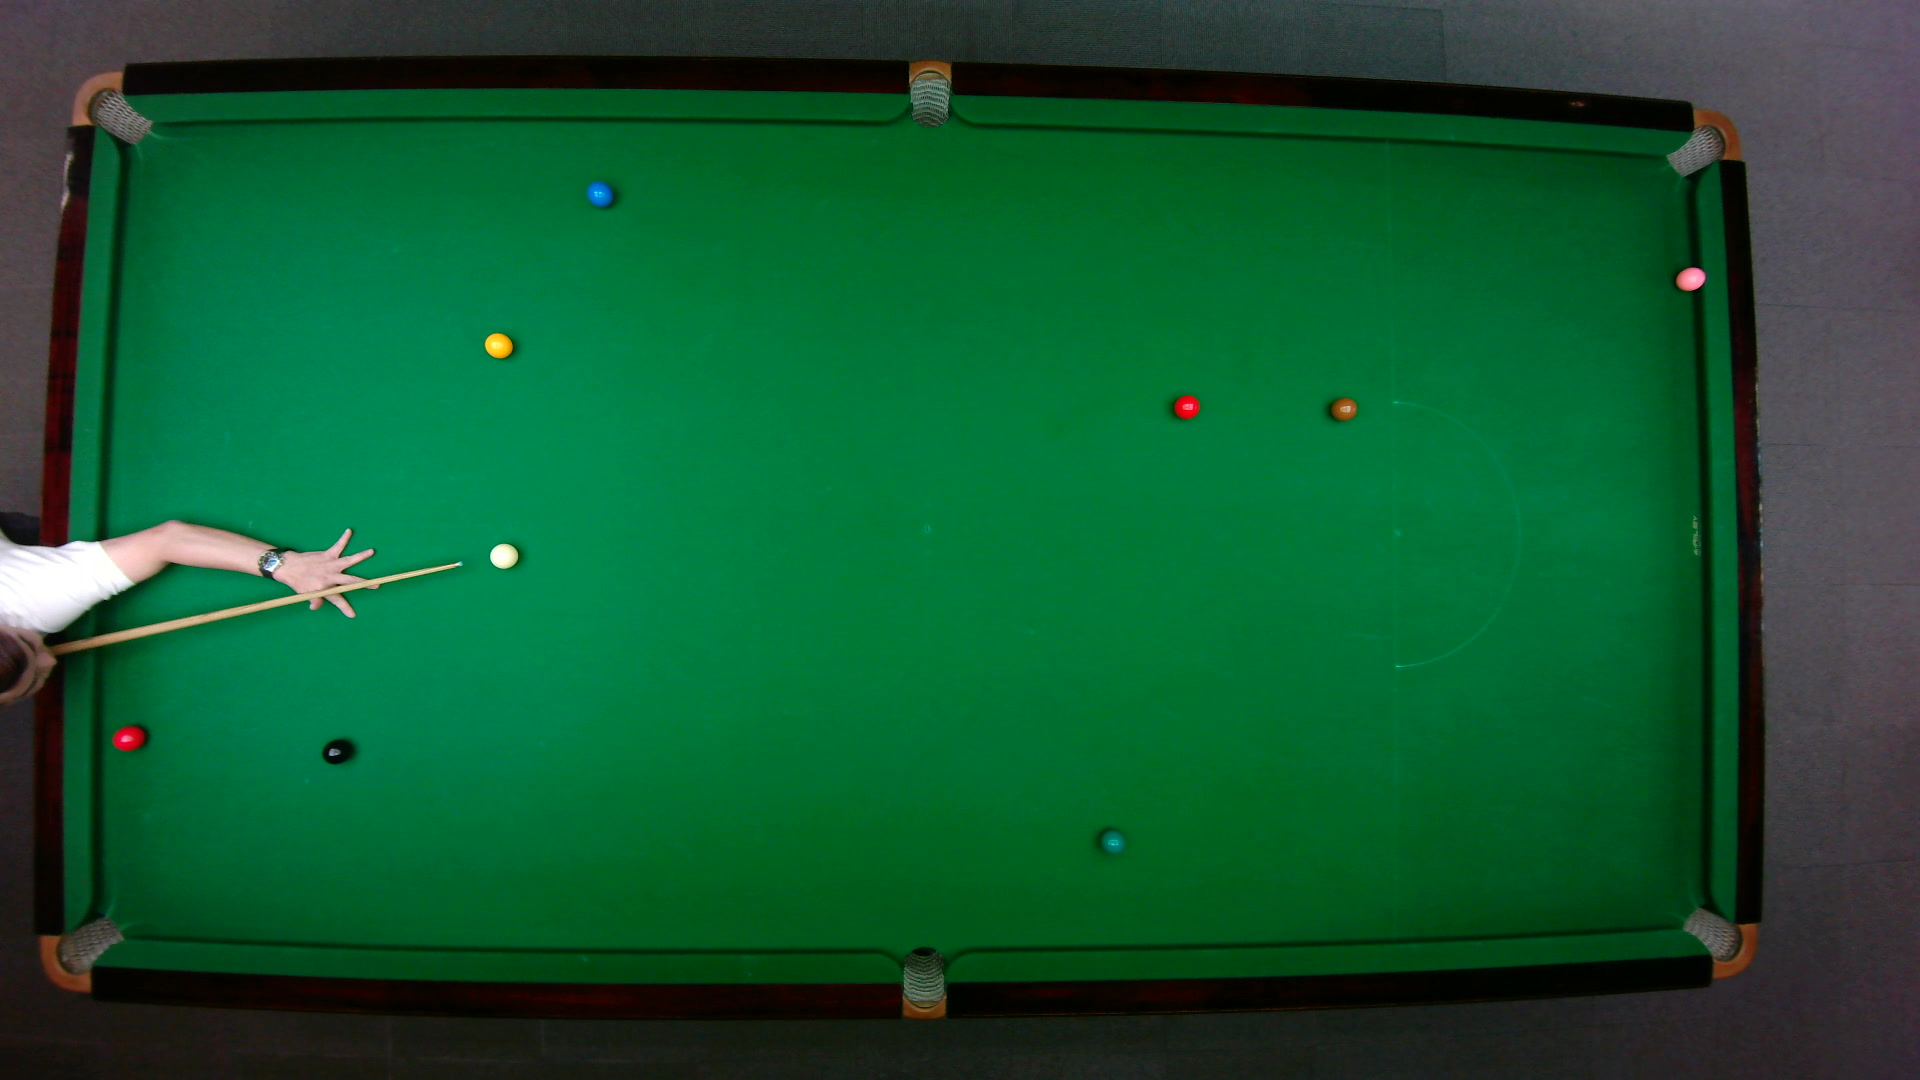bag: (38, 914, 125, 992), (69, 69, 153, 145), (1680, 905, 1756, 978), (1663, 108, 1741, 177), (901, 944, 944, 1021), (909, 58, 949, 128)
black: (320, 737, 352, 765)
blue: (585, 179, 615, 207)
brown: (1328, 396, 1360, 421)
cue: (32, 558, 465, 662)
green: (1097, 827, 1126, 855)
pink: (1673, 264, 1706, 291)
red: (109, 723, 146, 752), (1171, 392, 1201, 419)
white: (487, 541, 520, 568)
yellow: (483, 330, 513, 359)
zone: (1390, 400, 1520, 669)
